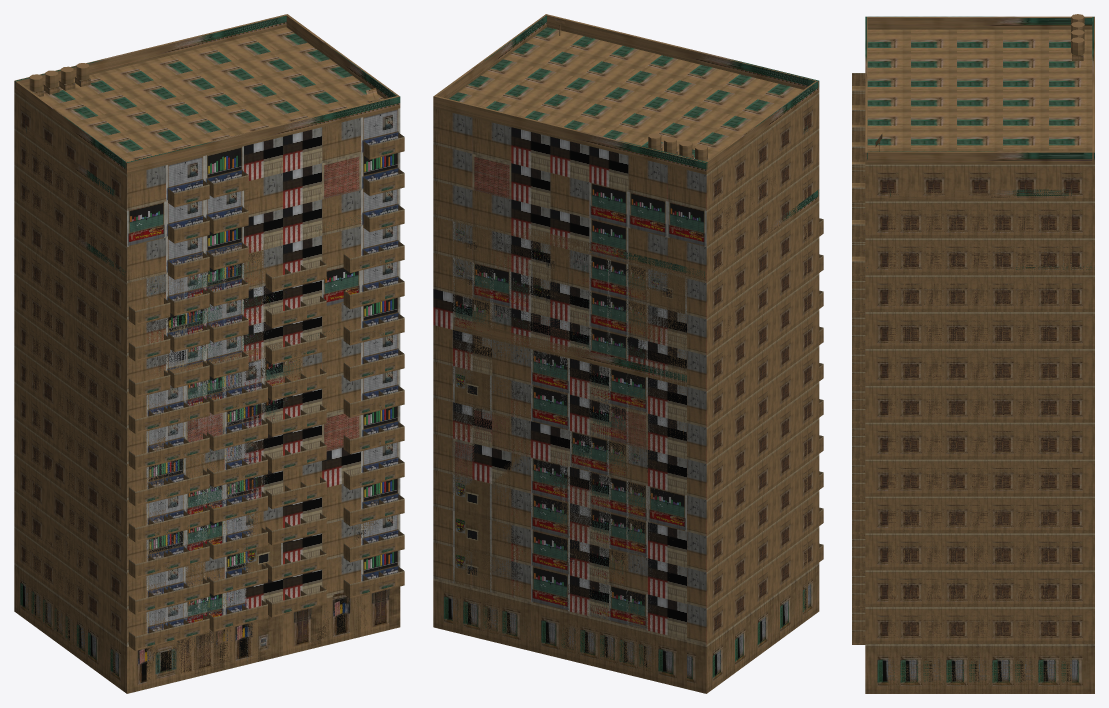
3 renders of one model, left to right at view 1: azimuth 30°, elevation 25°; view 2: azimuth 150°, elevation 25°; view 3: azimuth 270°, elevation 25°, orthographic.
Visible parts, largest first — view 1: Plaster_7x5_f13_v0, Plaster_7x4_f12_v1, Plaster_6x5_f7_v1, Plaster_6x5_f10_v1, Plaster_7x5_f10_v1, Plaster_7x4_f10_v1; view 2: Plaster_7x5_f13_v0, Plaster_6x5_f7_v1, Plaster_6x5_f10_v1, Plaster_7x5_f10_v1, Plaster_7x4_f12_v1; view 3: Plaster_7x5_f13_v0, Plaster_7x4_f12_v1, Plaster_6x5_f10_v1, Plaster_7x4_f10_v1.
Part boxes in pixels (x1,y1,x2,y2): Plaster_7x5_f13_v0: (14,14,404,693); Plaster_7x4_f12_v1: (25,125,115,685); Plaster_6x5_f7_v1: (146,329,380,688); Plaster_6x5_f10_v1: (146,242,384,617); Plaster_7x5_f10_v1: (14,189,396,650); Plaster_7x4_f10_v1: (26,199,115,274); Plaster_7x5_f13_v0: (433,14,819,693); Plaster_6x5_f7_v1: (453,318,686,688); Plaster_6x5_f10_v1: (453,213,686,386); Plaster_7x5_f10_v1: (433,189,823,561); Plaster_7x4_f12_v1: (717,125,807,622); Plaster_7x5_f13_v0: (852,14,1094,693); Plaster_7x4_f12_v1: (888,189,1071,693); Plaster_6x5_f10_v1: (852,239,865,630); Plaster_7x4_f10_v1: (888,263,1071,275).
Bounding box in the file's own units: 24.5 × 46.05 × 18.5.
1 material, 1 textured.
